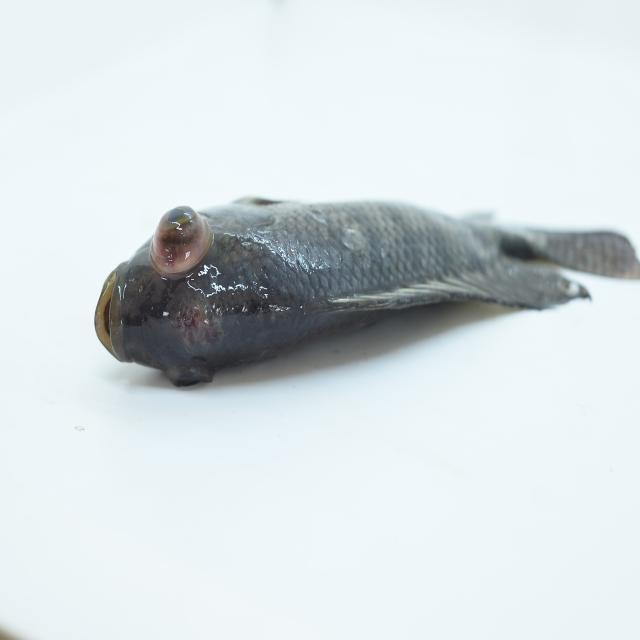streptococcus Disease: (91, 193, 639, 389)
